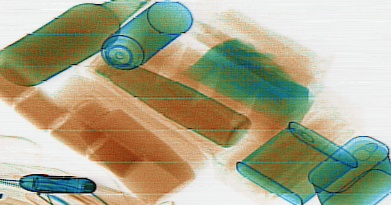pressure: (97, 1, 193, 70)
